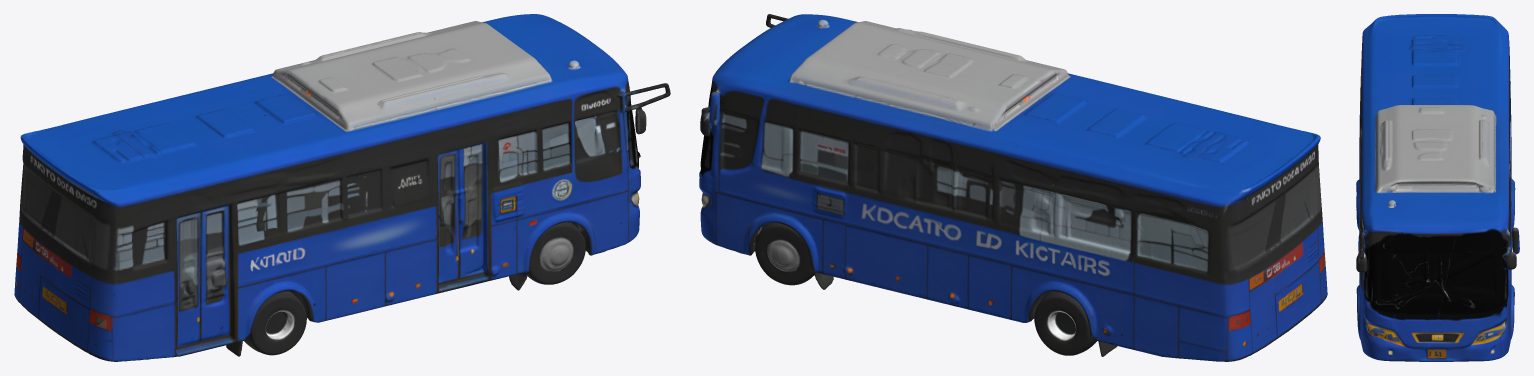
The model's file is Bus.fbx.
3 renders of one model, left to right at view 1: azimuth 30°, elevation 25°; view 2: azimuth 150°, elevation 25°; view 3: azimuth 270°, elevation 25°, orthographic. The views are drawn at different scales.
Parts seen in each view (by area): view 1: tripo_node_0c3c878f; view 2: tripo_node_0c3c878f; view 3: tripo_node_0c3c878f.
Boxes of the visible parts, x1,y1,x2,y2 form: tripo_node_0c3c878f: (14, 14, 670, 361); tripo_node_0c3c878f: (699, 14, 1327, 361); tripo_node_0c3c878f: (1356, 14, 1519, 361).
Size of the model in its own units: 100 by 35.99 by 31.78.
